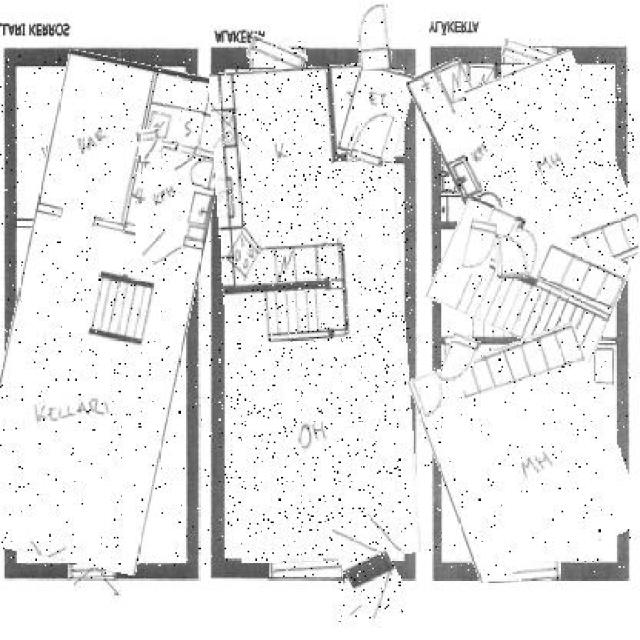door: (335, 514, 403, 621), (355, 0, 391, 71), (352, 111, 394, 166), (440, 334, 477, 389), (463, 220, 495, 274), (497, 234, 528, 278), (137, 221, 166, 257), (137, 129, 163, 160)
window: (248, 40, 308, 72), (269, 557, 343, 577), (486, 562, 560, 582), (502, 42, 556, 68), (68, 563, 115, 579)
zone: (0, 55, 212, 567), (218, 64, 412, 562), (424, 332, 630, 572), (483, 57, 634, 285), (432, 211, 625, 352), (422, 60, 511, 222), (343, 65, 411, 162)
